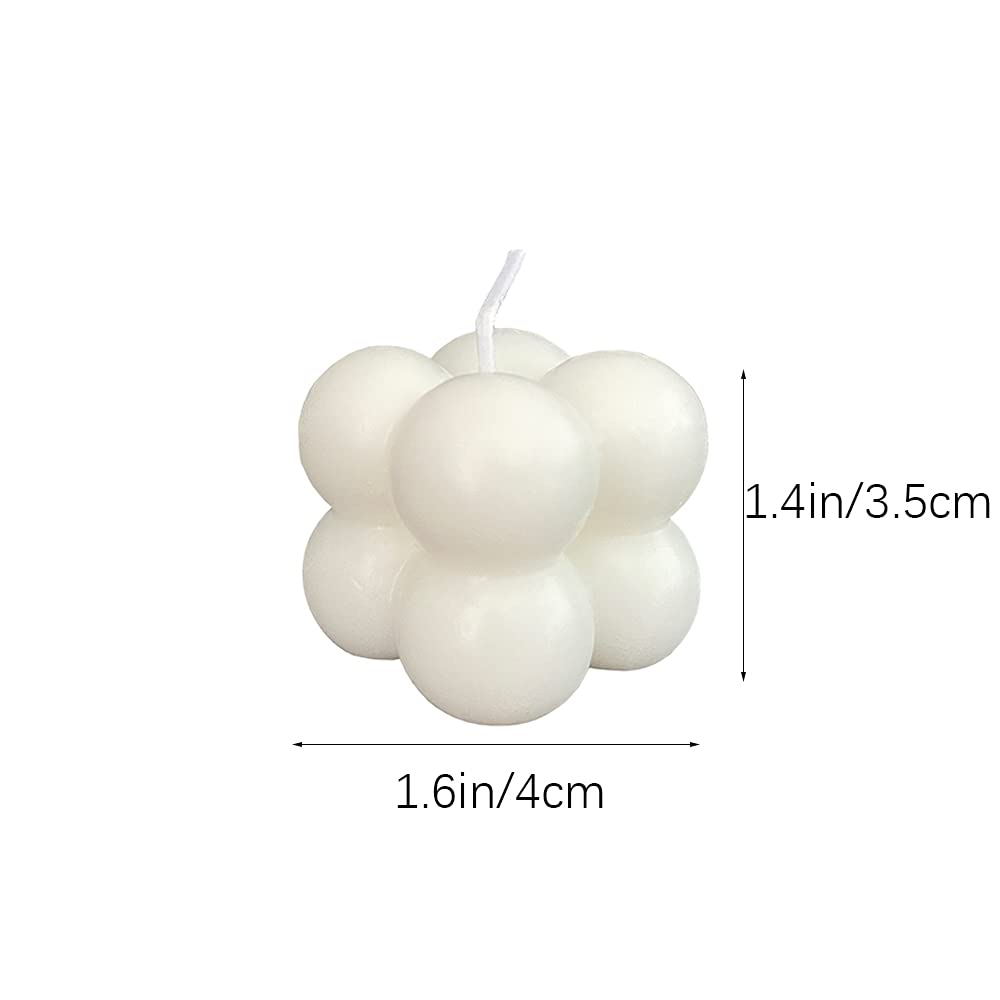1.6in/4cm: (397, 772, 603, 808)
